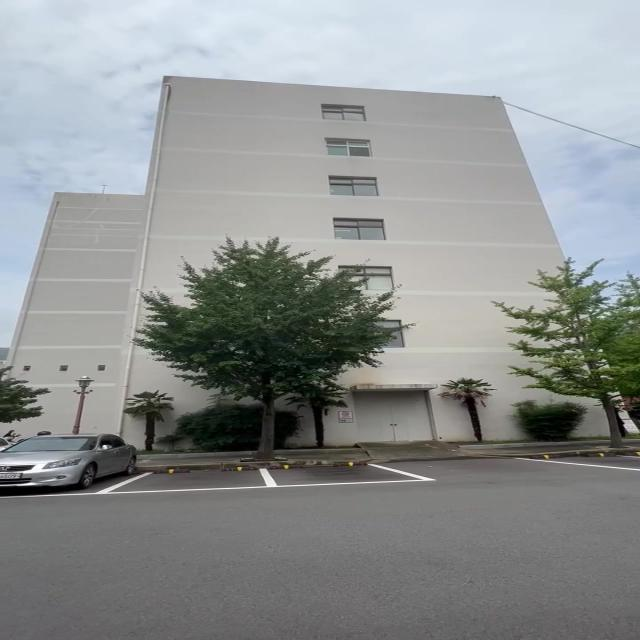building: (166, 78, 532, 250)
